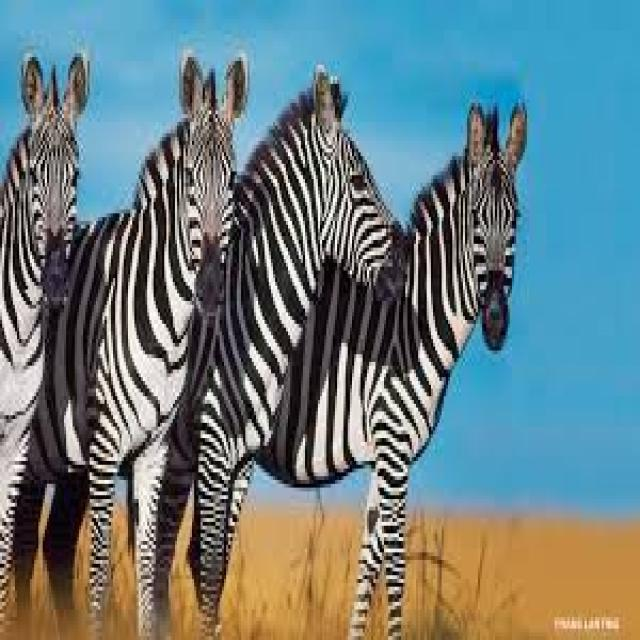Zebra: (215, 47, 415, 603), (92, 44, 257, 592), (381, 90, 527, 605), (0, 36, 93, 607)
